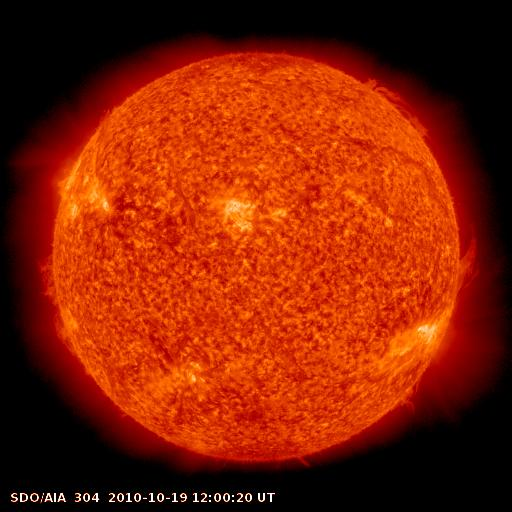prominence: (366, 71, 436, 150), (432, 214, 486, 305), (37, 306, 85, 367), (28, 245, 76, 306), (387, 377, 438, 428), (281, 445, 320, 476)
